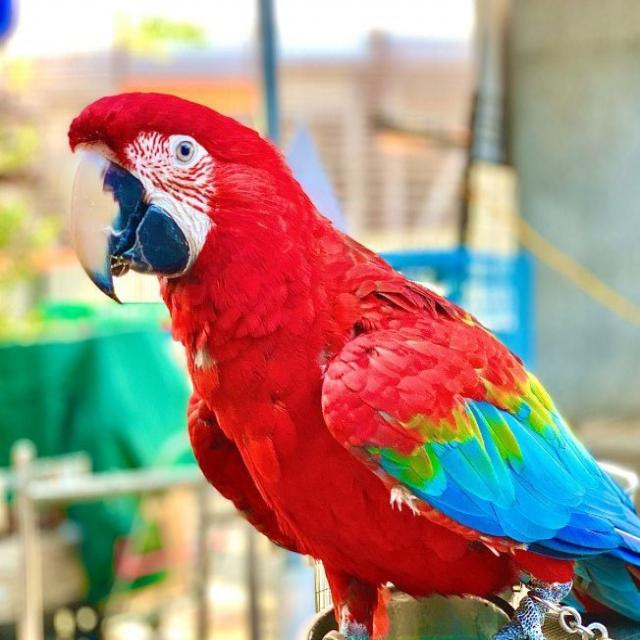Parrot: (63, 92, 640, 640)
